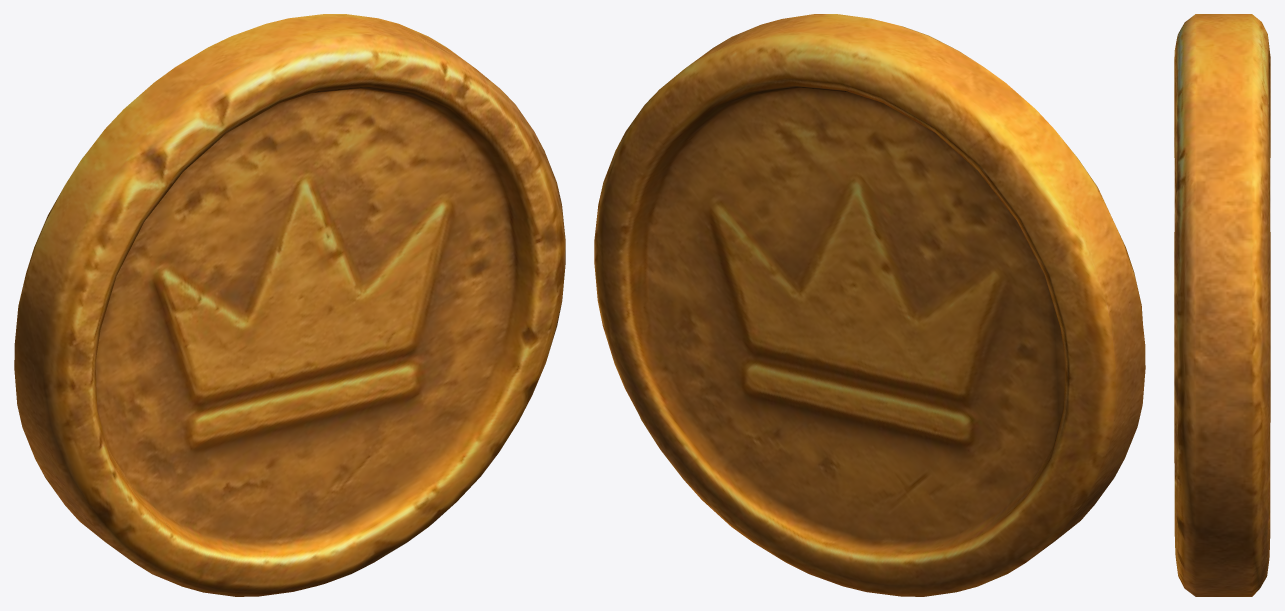
Rendered from coin.glb.
3 views of the same model, side by side, from view 1: azimuth 30°, elevation 25°; view 2: azimuth 150°, elevation 25°; view 3: azimuth 270°, elevation 25° (orthographic). The views are drawn at different scales.
Parts seen in each view (by area): view 1: tripo_002f0ffc_e6a8_469c_b730_410c95cfa34f; view 2: tripo_002f0ffc_e6a8_469c_b730_410c95cfa34f; view 3: tripo_002f0ffc_e6a8_469c_b730_410c95cfa34f.
Boxes of the visible parts, x1=… form: tripo_002f0ffc_e6a8_469c_b730_410c95cfa34f: x1=14, y1=14, x2=565, y2=596; tripo_002f0ffc_e6a8_469c_b730_410c95cfa34f: x1=594, y1=14, x2=1145, y2=596; tripo_002f0ffc_e6a8_469c_b730_410c95cfa34f: x1=1174, y1=14, x2=1270, y2=596.
Size of the model in its own units: 0.9995 by 0.9995 by 0.1646.
1 material, 1 textured.
